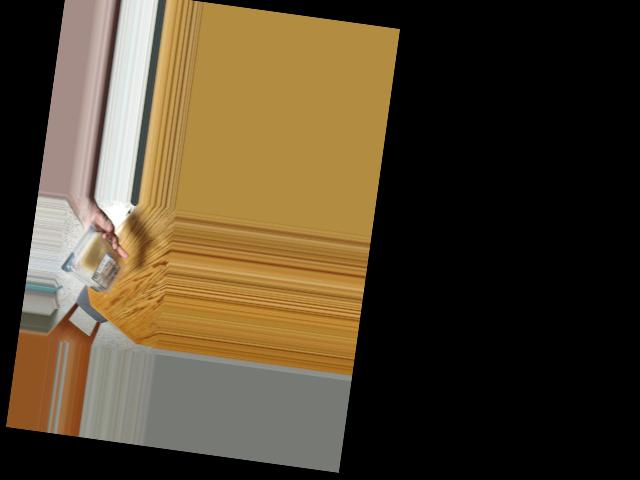cheese: (65, 225, 128, 299)
